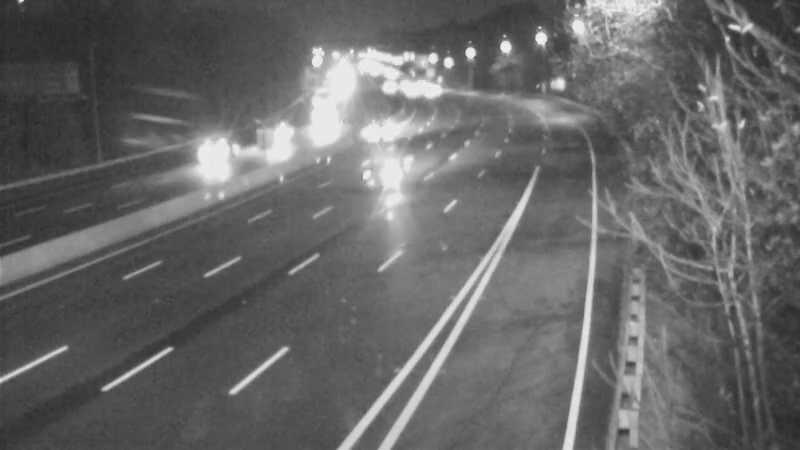vehicle: (351, 127, 431, 207), (170, 114, 250, 194), (363, 108, 413, 158), (246, 117, 296, 167), (296, 104, 346, 154)
